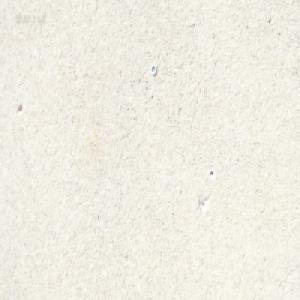Washer: (150, 64, 157, 76)
